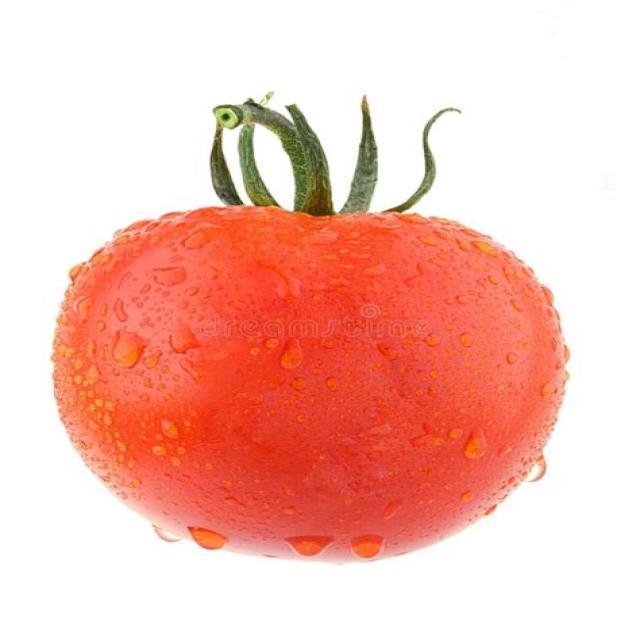Tomato: (53, 204, 571, 565)
